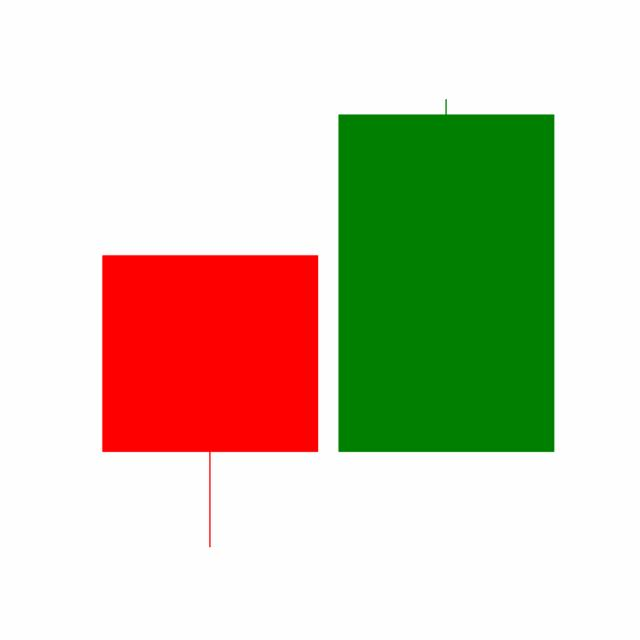Marubozu: (327, 95, 565, 455)
